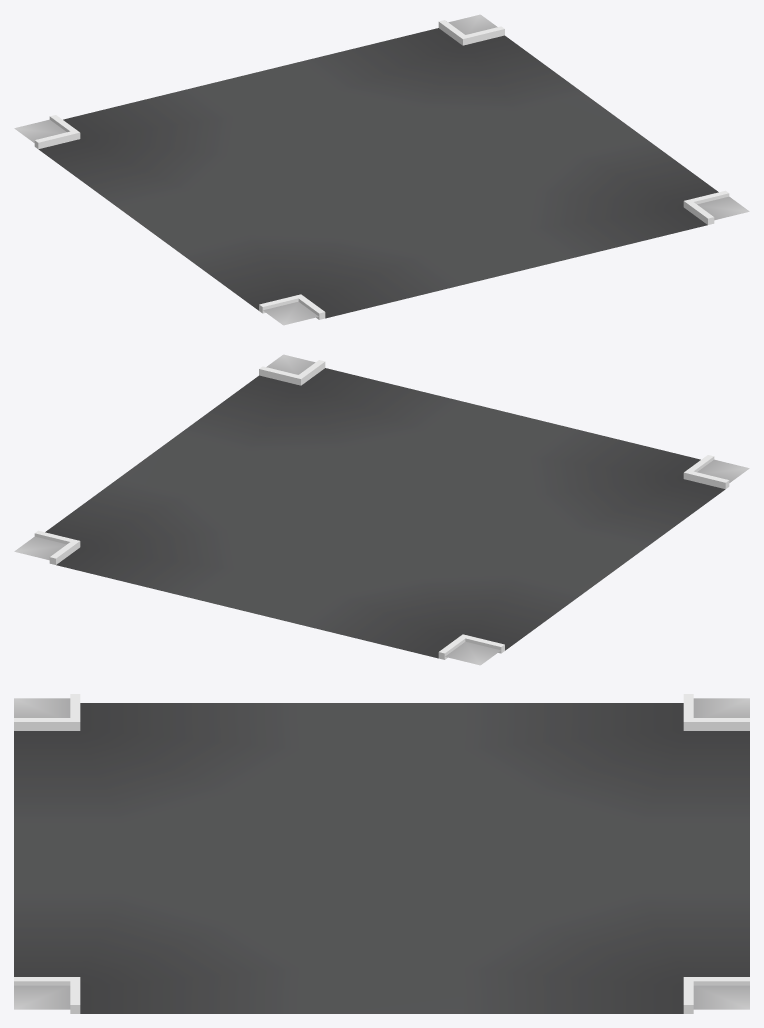
The model's file is road_002.glb.
3 views of the same model, one above another, from view 1: azimuth 30°, elevation 25°; view 2: azimuth 150°, elevation 25°; view 3: azimuth 270°, elevation 25° (orthographic). The views are drawn at different scales.
Visible parts, largest first — view 1: road_002; view 2: road_002; view 3: road_002.
Part boxes in pixels (x1=…): road_002: x1=14, y1=14, x2=749, y2=325; road_002: x1=14, y1=354, x2=749, y2=665; road_002: x1=14, y1=694, x2=749, y2=1013.
Size of the model in its own units: 15 by 0.2 by 15.
1 material, 1 textured.
